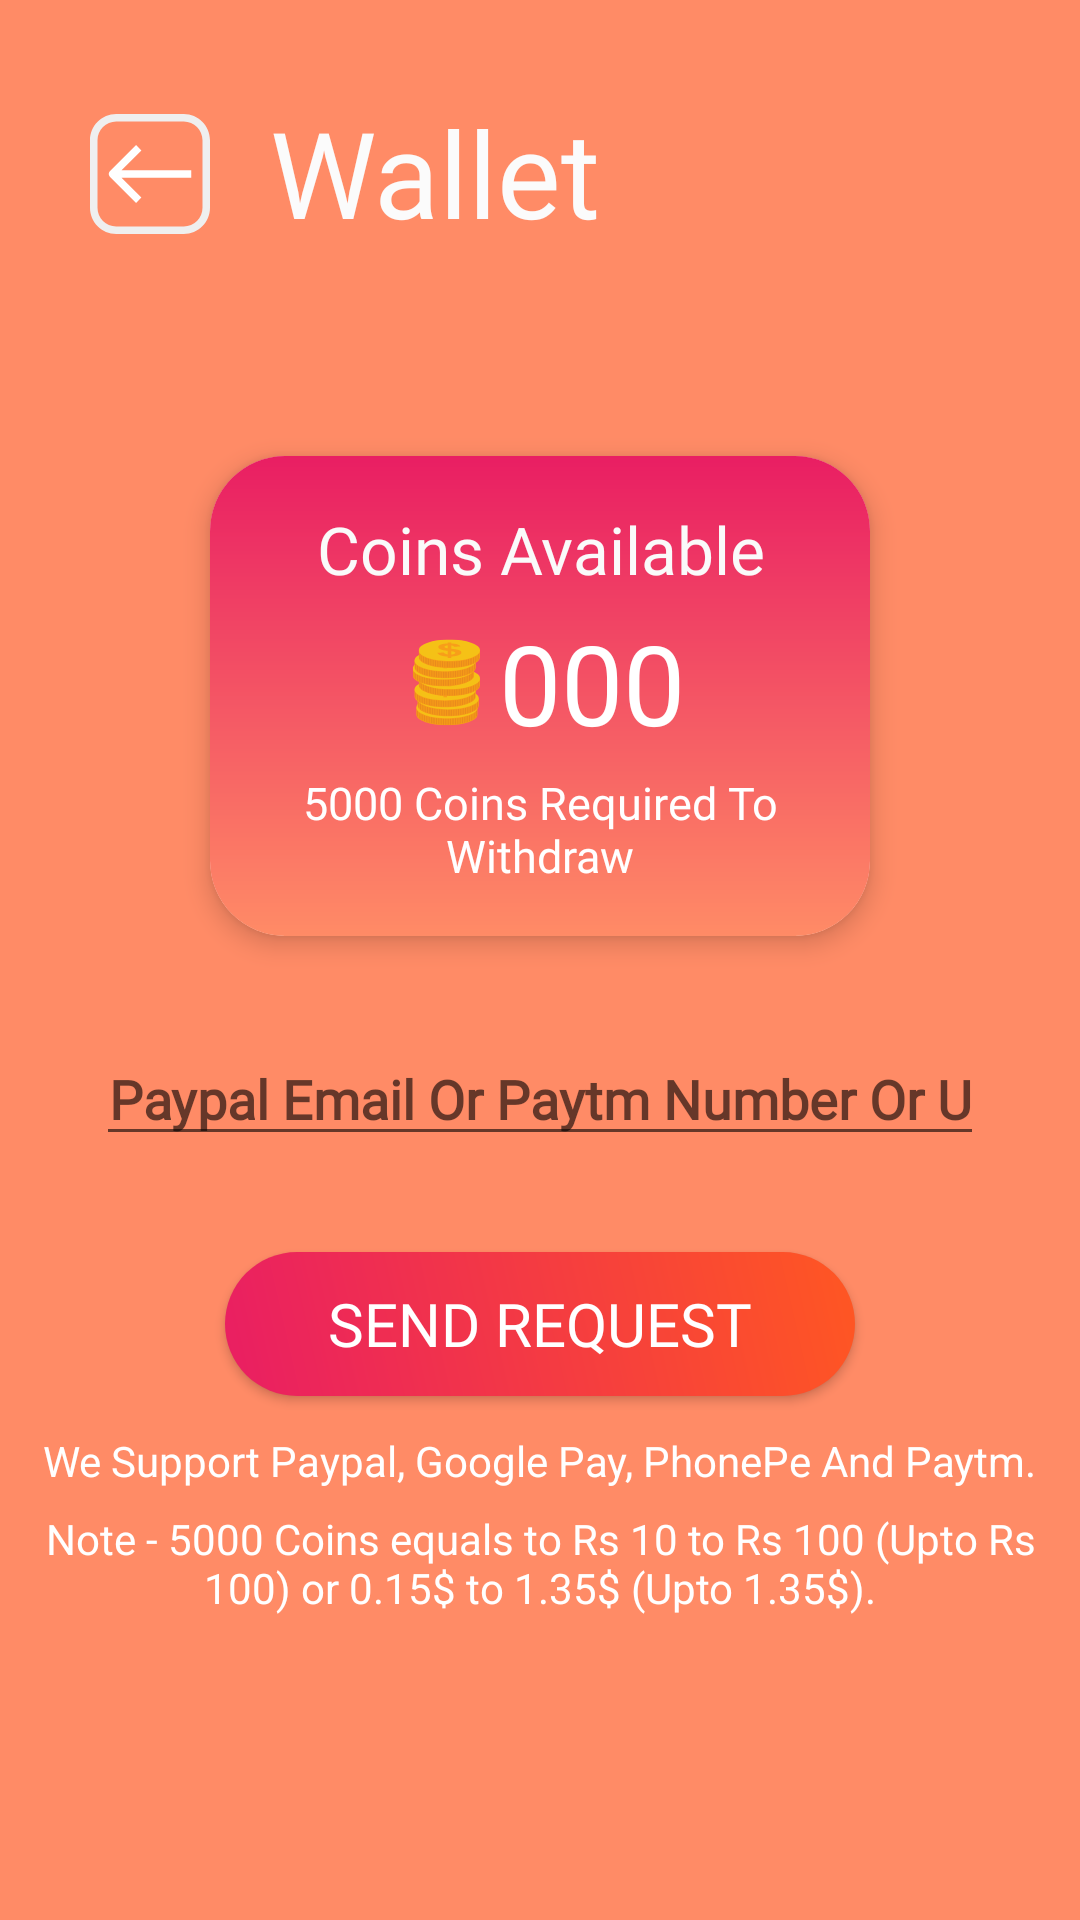

Point at icon controls on the screen. Image size 1080px x 1920px, points as (x,y).
coinsicon: (446,682)
left arrow: (150,174)
